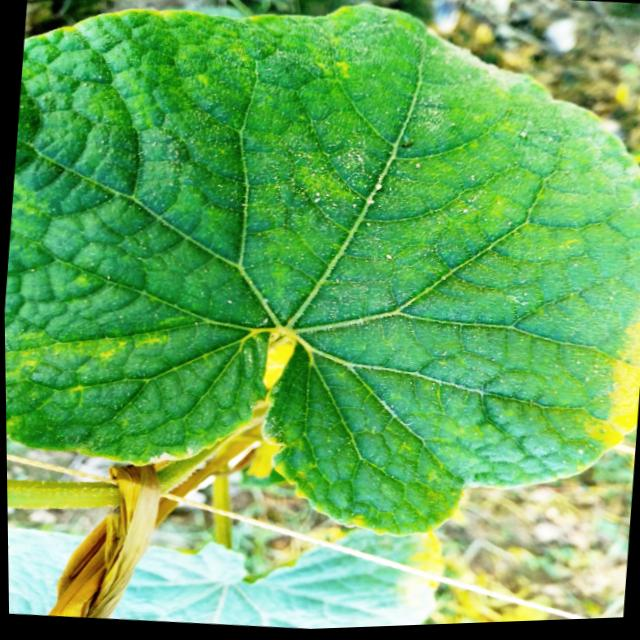Fresh-Leaf: (25, 4, 640, 535)
